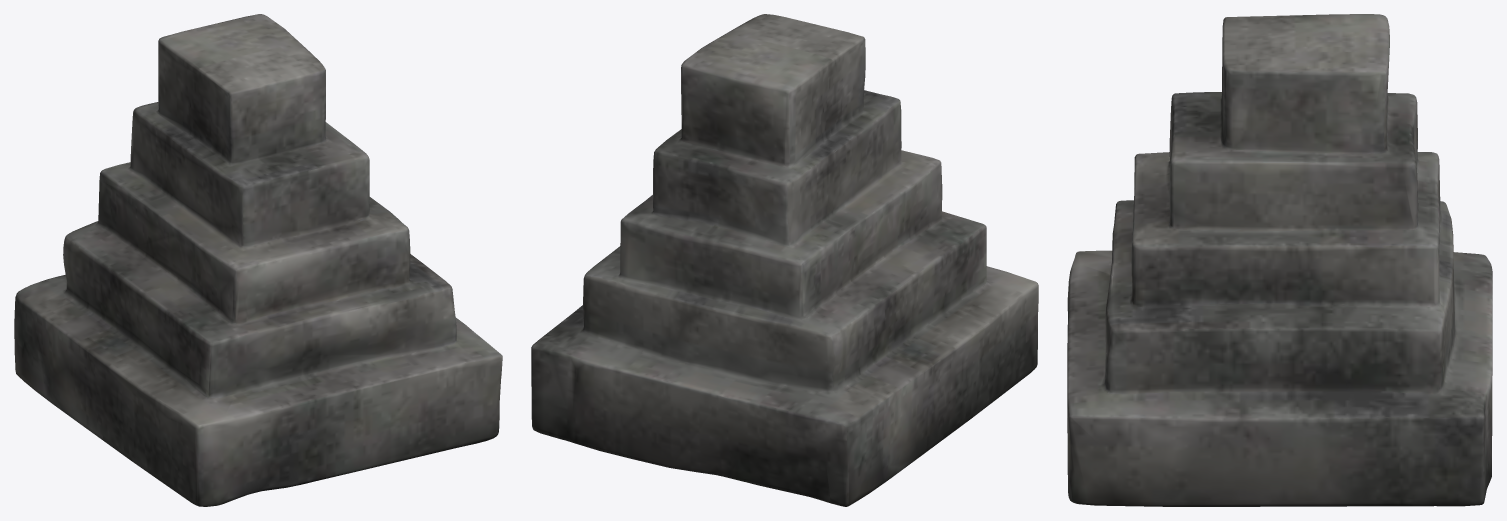
Rendered from weathered-granite-straight-staircase-v001.glb.
3 views of the same model, side by side, from view 1: azimuth 30°, elevation 25°; view 2: azimuth 150°, elevation 25°; view 3: azimuth 270°, elevation 25° (orthographic). The views are drawn at different scales.
Parts seen in each view (by area): view 1: weathered-granite-straight-staircase; view 2: weathered-granite-straight-staircase; view 3: weathered-granite-straight-staircase.
Part boxes in pixels (bbox=[...]): weathered-granite-straight-staircase: bbox=[14, 14, 502, 506]; weathered-granite-straight-staircase: bbox=[531, 14, 1038, 506]; weathered-granite-straight-staircase: bbox=[1067, 14, 1492, 506].
Size of the model in its own units: 1.27 by 1.35 by 1.35.
1 material, 1 textured.
